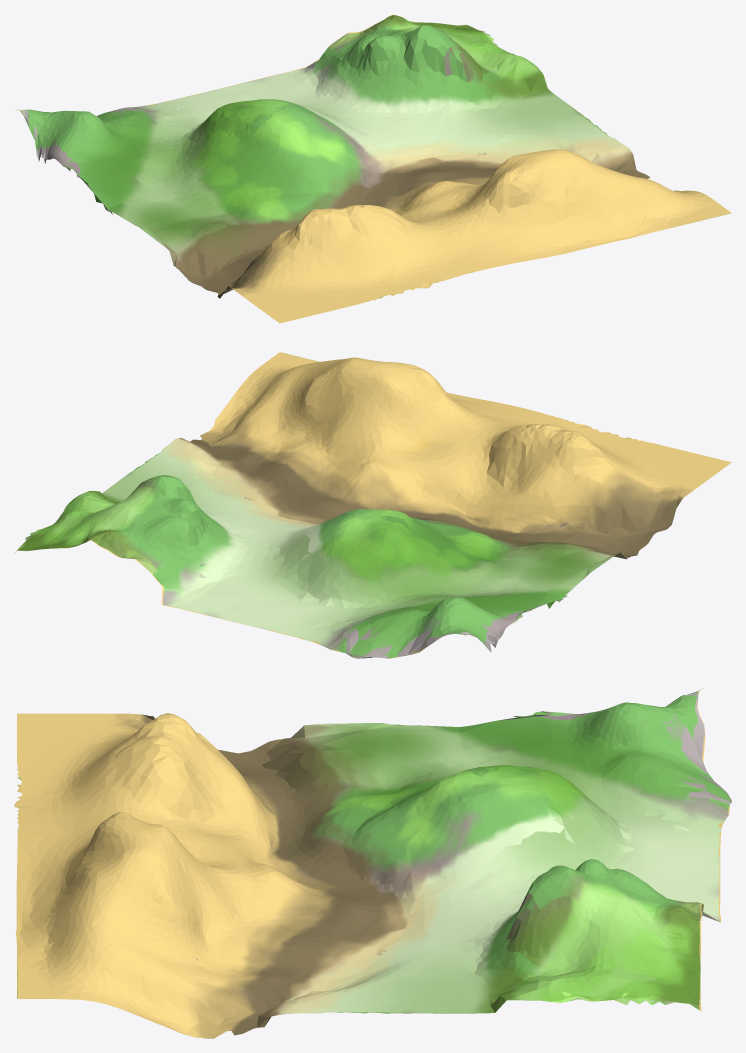
The model's file is TerrainA3_7000p.fbx.
3 views of the same model, one above another, from view 1: azimuth 30°, elevation 25°; view 2: azimuth 150°, elevation 25°; view 3: azimuth 270°, elevation 25° (orthographic). The views are drawn at different scales.
Parts seen in each view (by area): view 1: Terrain3_7000; view 2: Terrain3_7000; view 3: Terrain3_7000.
Boxes of the visible parts, <box> form: Terrain3_7000: <box>15,14,731,323</box>; Terrain3_7000: <box>15,352,731,658</box>; Terrain3_7000: <box>14,688,731,1038</box>.
Bounding box in the file's own units: 20264 × 3680 × 21287.
Materials: 1 (1 with a texture image).
